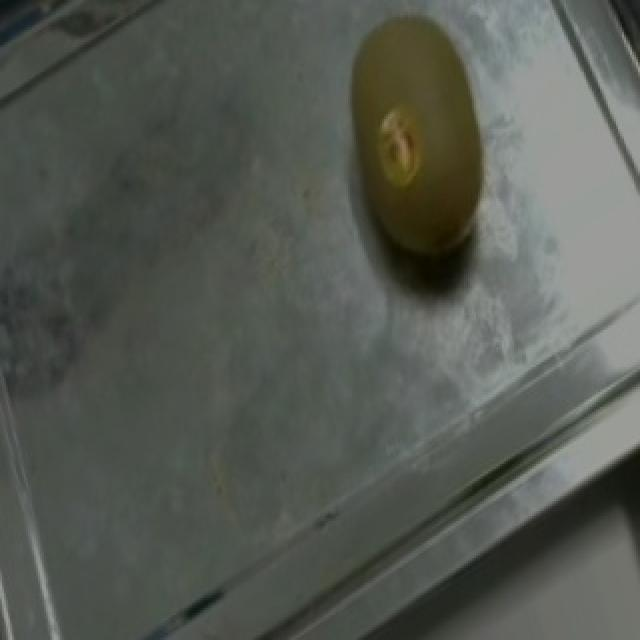Fruit: (300, 0, 534, 310)
